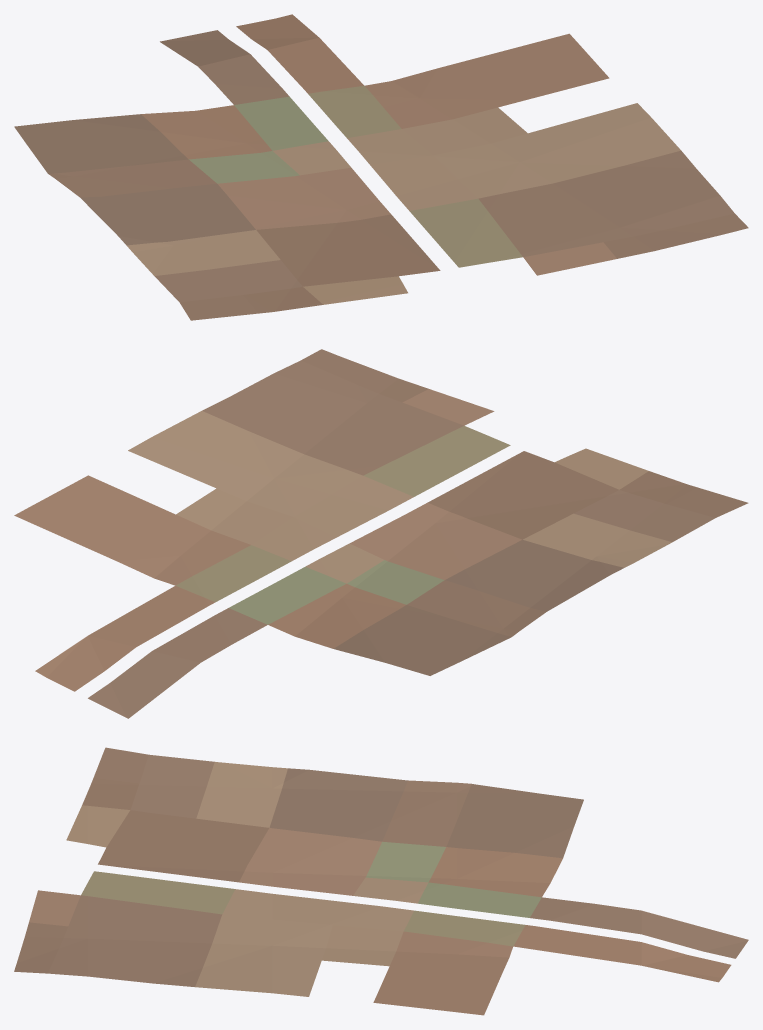
Rendered from farm_1_18_soil.glb.
The picture shows the model from 3 angles, top to bottom: view 1: azimuth 30°, elevation 25°; view 2: azimuth 150°, elevation 25°; view 3: azimuth 270°, elevation 25°; orthographic projection. The views are drawn at different scales.
Parts seen in each view (by area): view 1: geometry_0; view 2: geometry_0; view 3: geometry_0.
Part boxes in pixels (left/top/right/bottom): geometry_0: left=14, top=14, right=748, bottom=320; geometry_0: left=14, top=349, right=748, bottom=718; geometry_0: left=14, top=747, right=748, bottom=1015.
Bounding box in the file's own units: 269 × 26.05 × 319.
